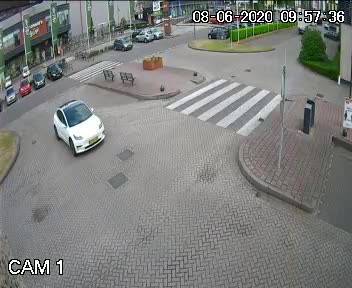car: (43, 95, 112, 161)
